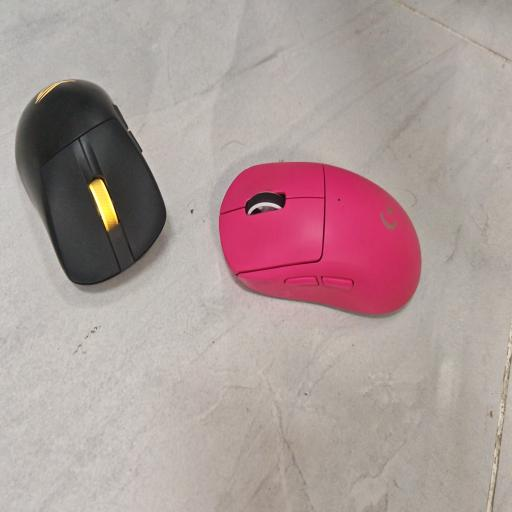mouse: (15, 80, 166, 284), (219, 162, 421, 314)
